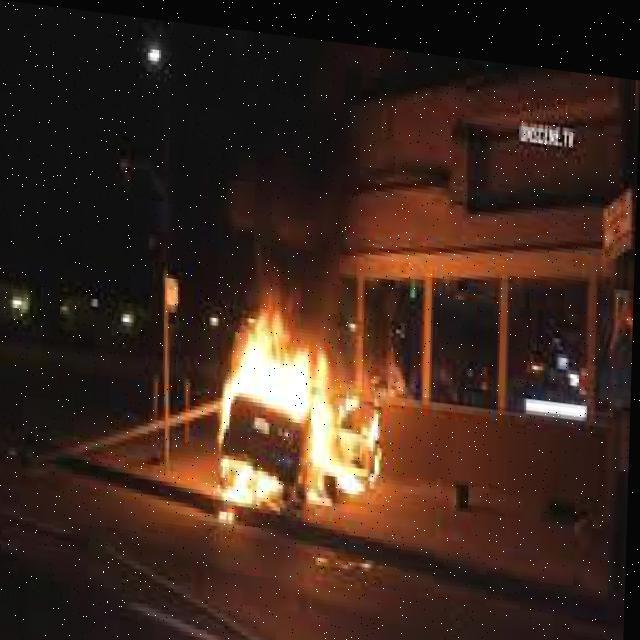Fire: (210, 282, 408, 526)
